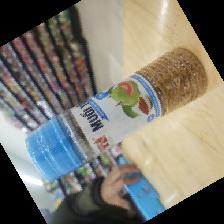TayNinh_blue: (22, 46, 210, 182)
